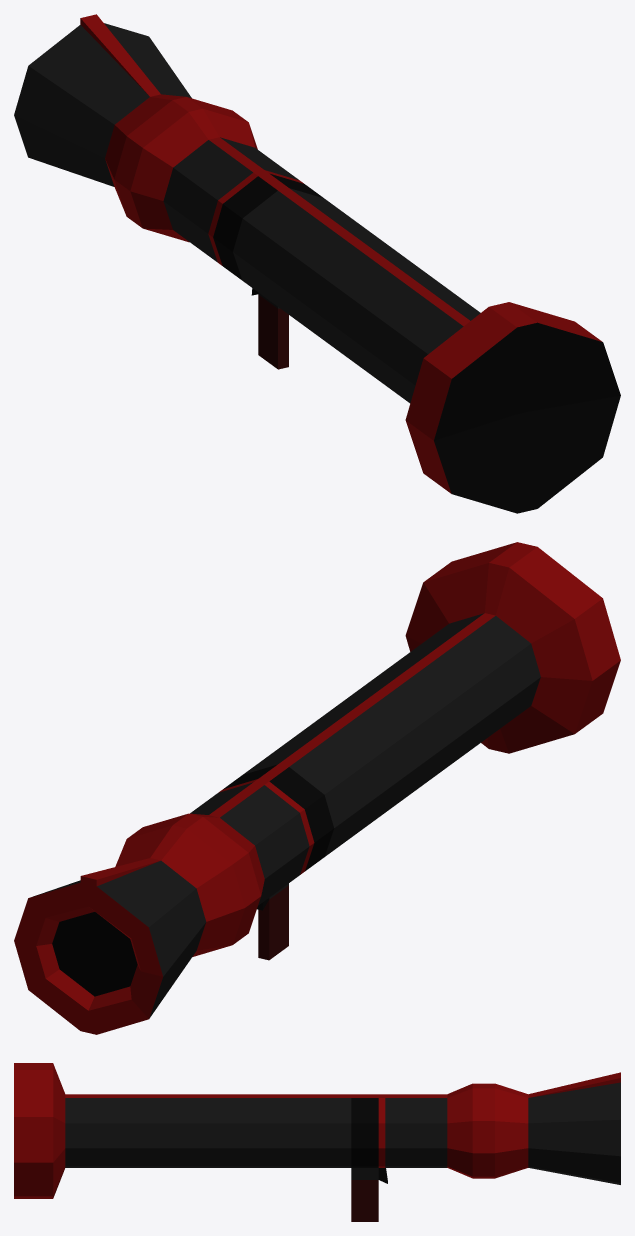
The model's file is MissileLauncher.obj.
The picture shows the model from 3 angles, top to bottom: view 1: azimuth 30°, elevation 25°; view 2: azimuth 150°, elevation 25°; view 3: azimuth 270°, elevation 25°; orthographic projection. The views are drawn at different scales.
Parts seen in each view (by area): view 1: missile_launcher_Cylinder; view 2: missile_launcher_Cylinder; view 3: missile_launcher_Cylinder.
Boxes of the visible parts, left/top/right/bottom form: missile_launcher_Cylinder: left=14, top=14, right=620, bottom=513; missile_launcher_Cylinder: left=14, top=542, right=620, bottom=1034; missile_launcher_Cylinder: left=14, top=1063, right=620, bottom=1221.
Bounding box in the file's own units: 0.4392 × 0.4976 × 1.78.
